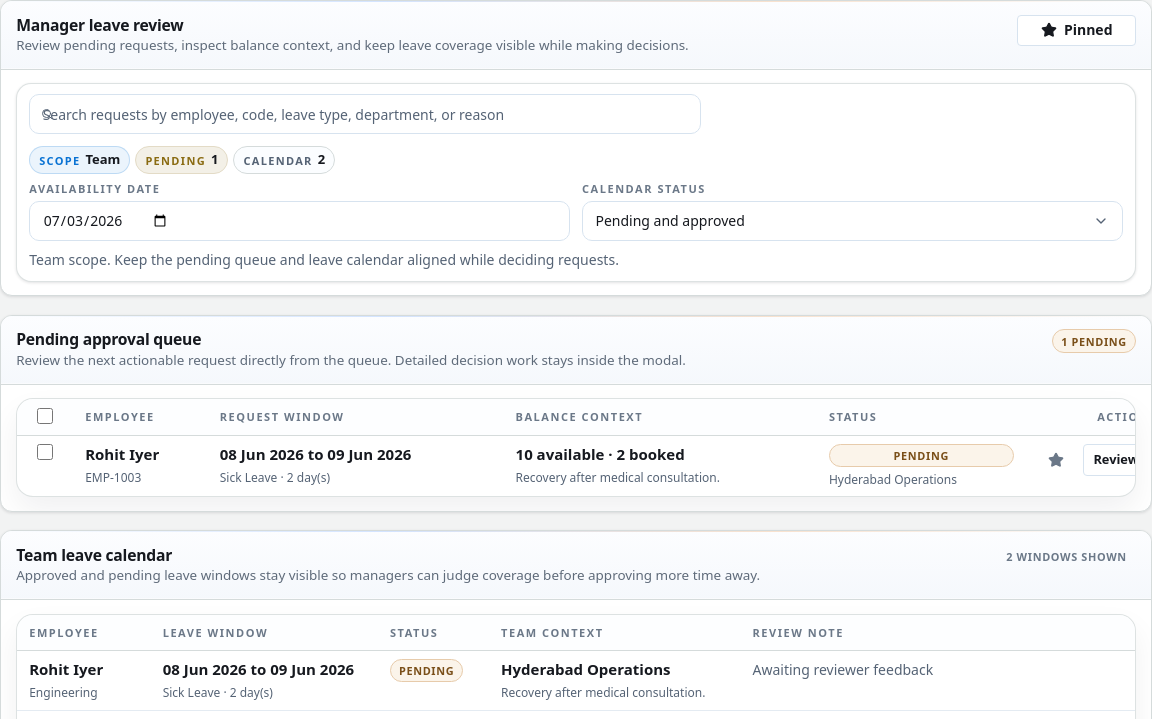
LeaveReviewWorkspace › approves a pending leave request and moves it into the calendar
This screenshot has width=1152, height=719.
Step 1. Click the button with aria-label "review rohit iyer" → [1116, 460], box [1083,444,1149,476]
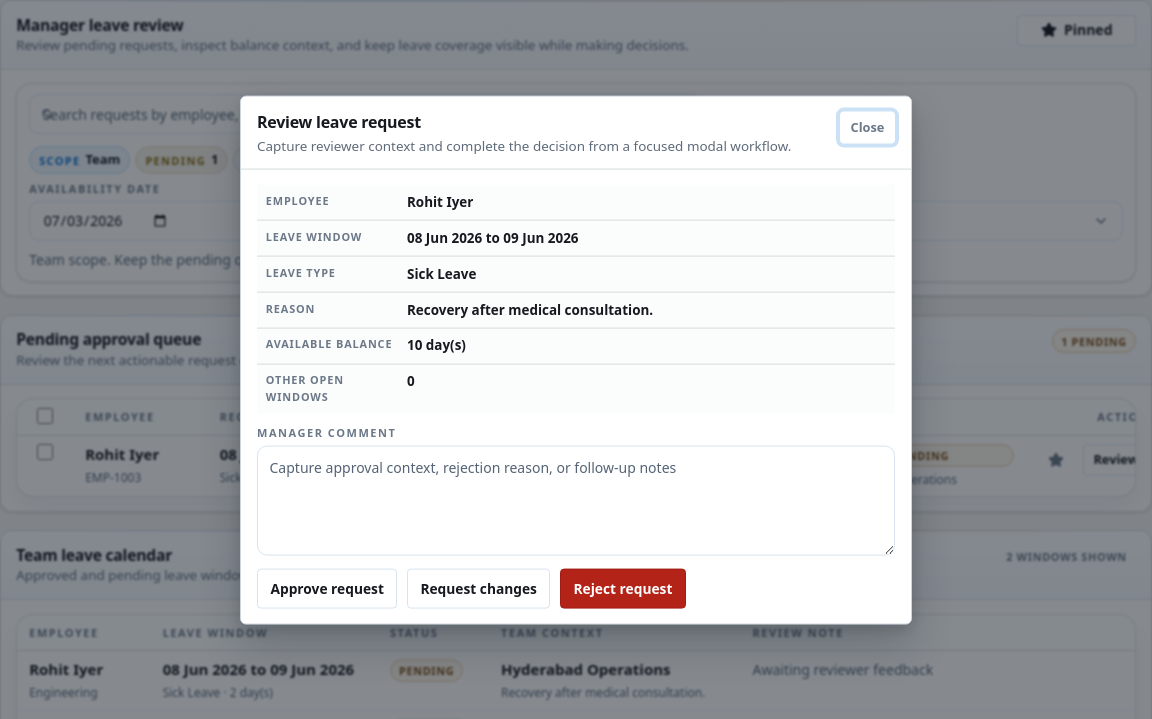
Step 2. Type "Approved after confirming delivery coverage with the team." into the text box labelled "Manager comment" → [576, 500], box [257,445,895,556]
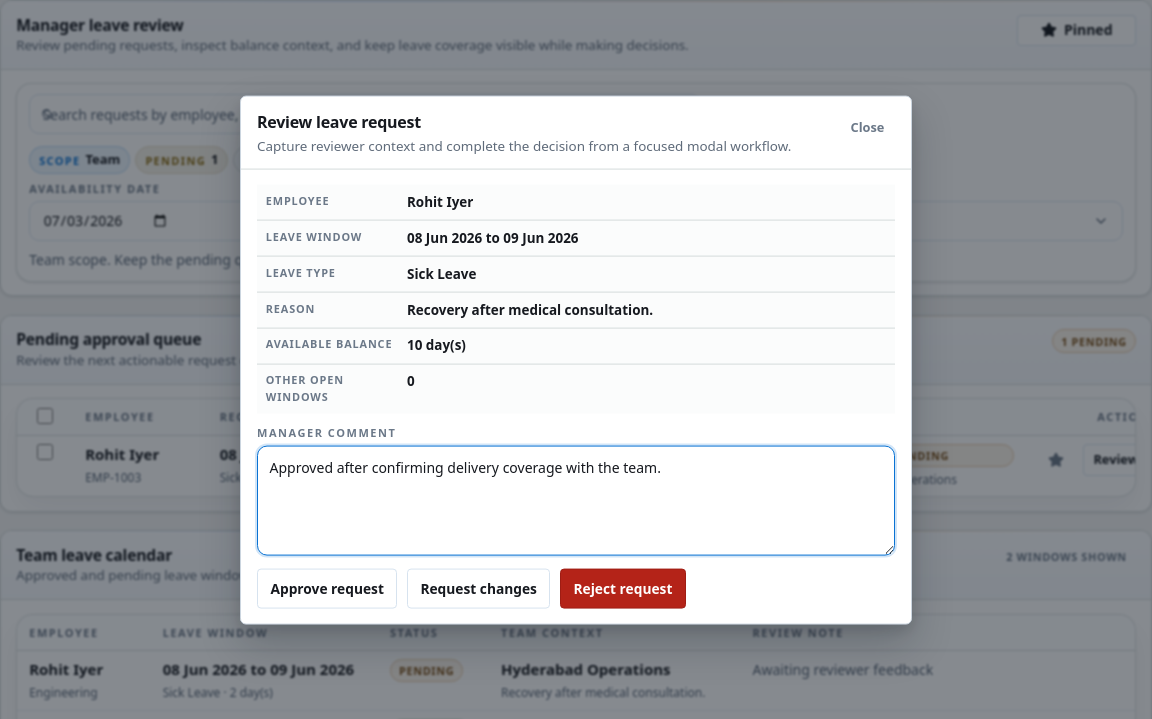
Step 3. Click the button "Approve request" → [327, 588], box [257,568,397,608]
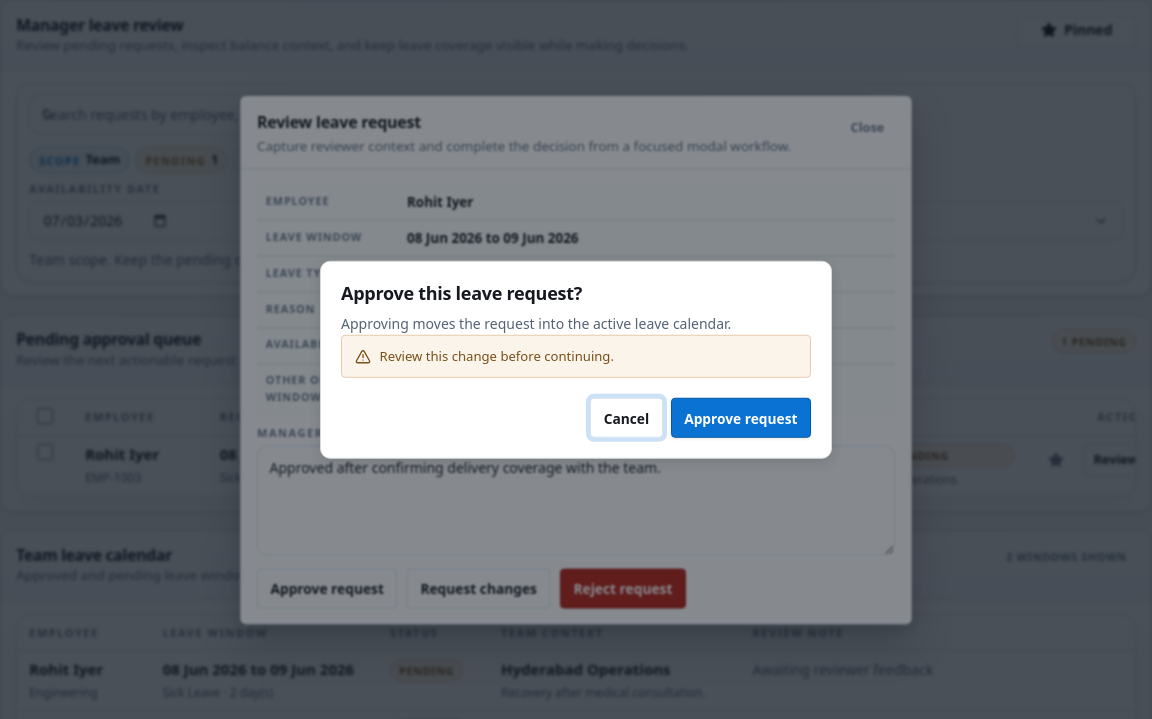
Step 4. Click the button "Approve request" → [741, 418], box [671,398,811,438]
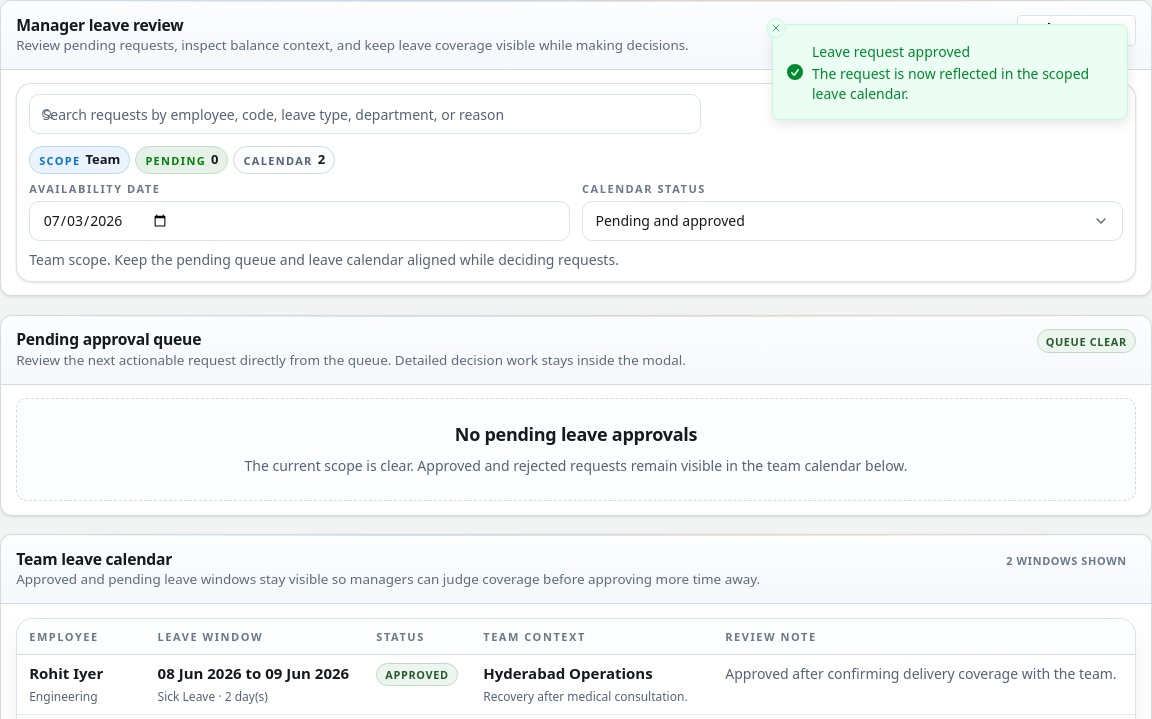
Result: the text "Leave request approved" is shown at [812,42,970,61]
Result: the text "Queue clear" is shown at [1037,329,1136,353]
Result: the text "Approved after confirming delivery coverage with the team." is shown at [713,655,1135,714]
